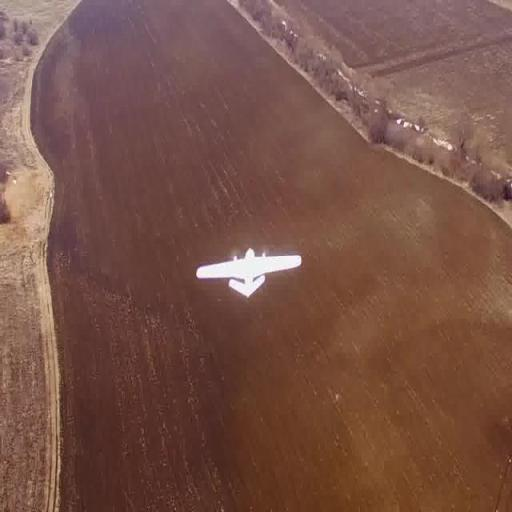uav: (190, 244, 304, 307)
